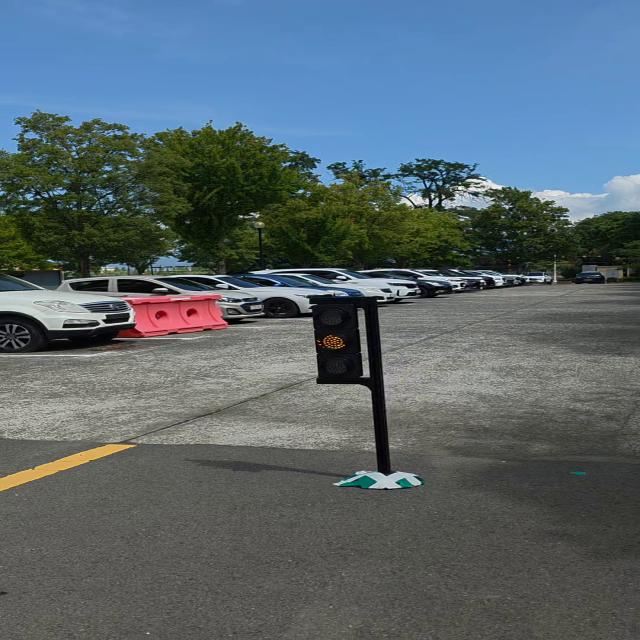yellow: (310, 299, 364, 386)
